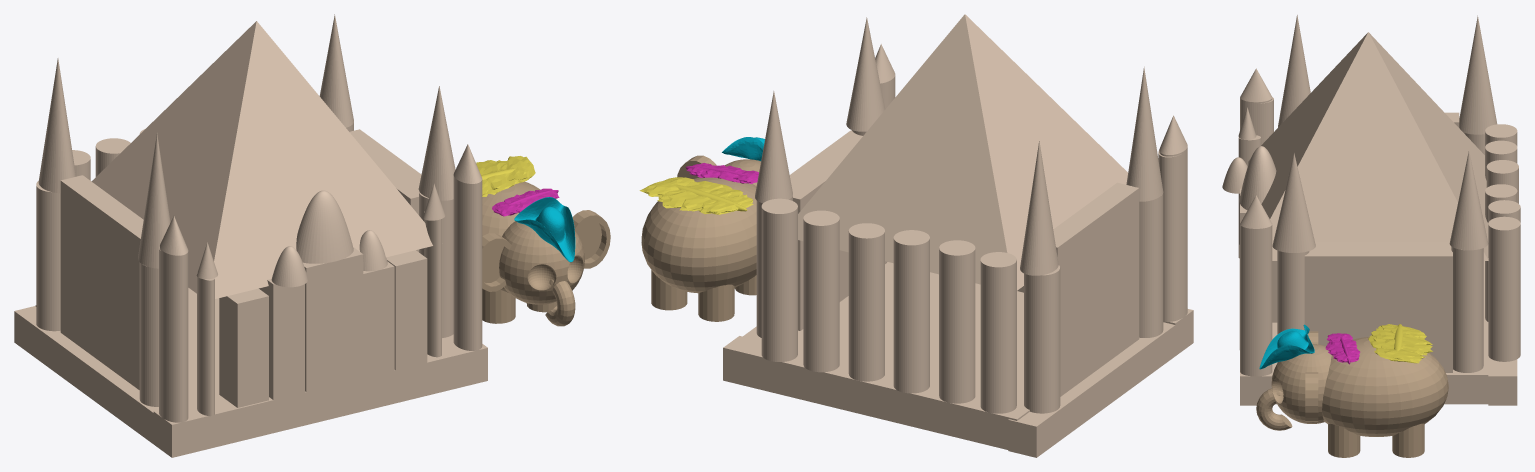
Rendered from India.glb.
The picture shows the model from 3 angles, left to right: view 1: azimuth 30°, elevation 25°; view 2: azimuth 150°, elevation 25°; view 3: azimuth 270°, elevation 25°; orthographic projection. The views are drawn at different scales.
Parts seen in each view (by area): view 1: Mesh_Mesh_head_geo.001_lambert2SG.001; view 2: Mesh_Mesh_head_geo.001_lambert2SG.001; view 3: Mesh_Mesh_head_geo.001_lambert2SG.001.
Part boxes in pixels (bbox=[...]): Mesh_Mesh_head_geo.001_lambert2SG.001: bbox=[14, 14, 610, 457]; Mesh_Mesh_head_geo.001_lambert2SG.001: bbox=[639, 14, 1193, 457]; Mesh_Mesh_head_geo.001_lambert2SG.001: bbox=[1222, 15, 1520, 457].
Bounding box in the file's own units: 0.301 × 0.21 × 0.185.
